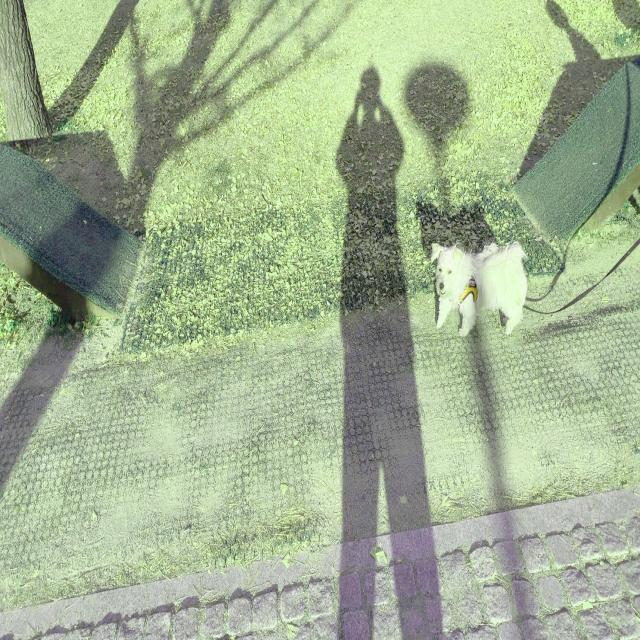Dog: (430, 238, 529, 338)
